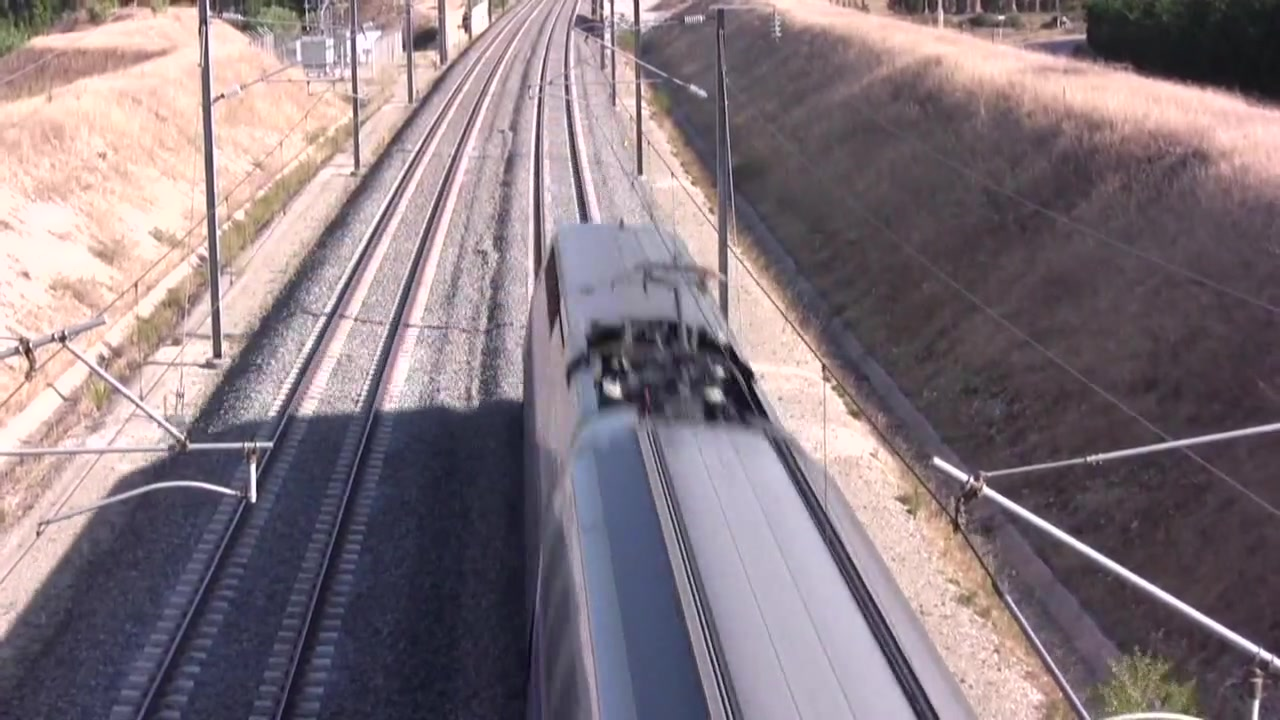train: (519, 222, 987, 720)
